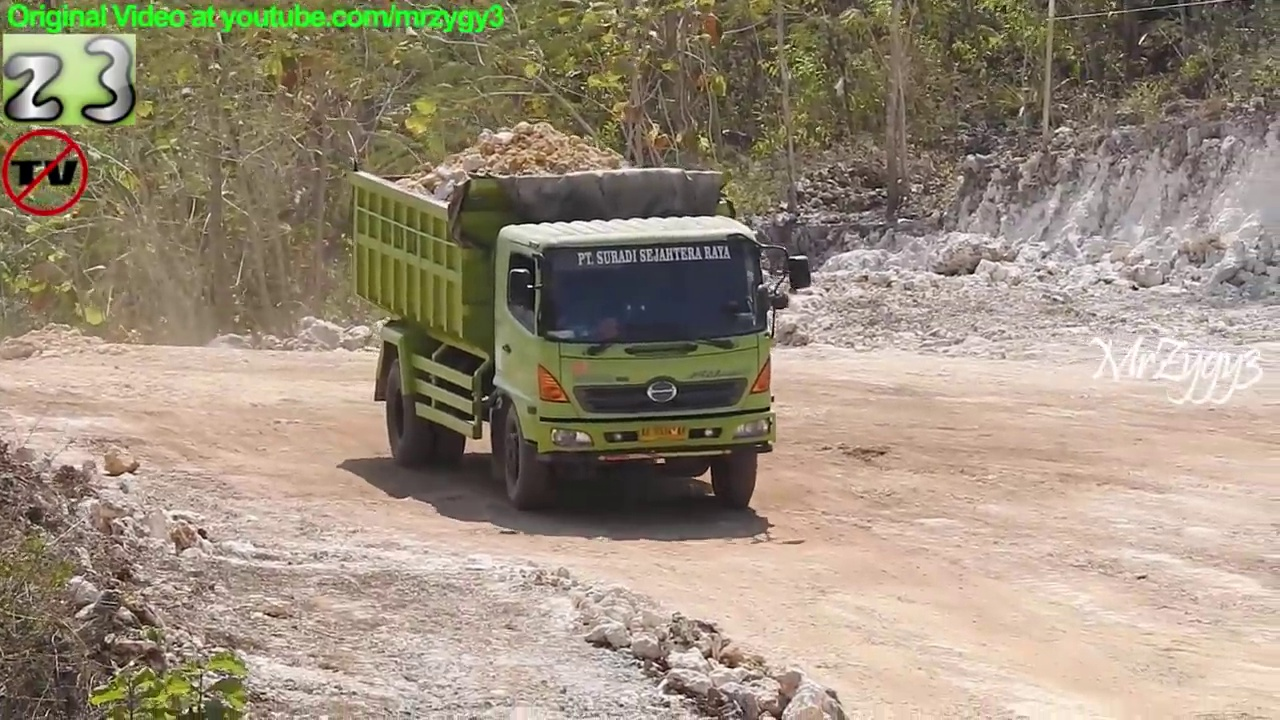truck: (340, 154, 816, 519)
